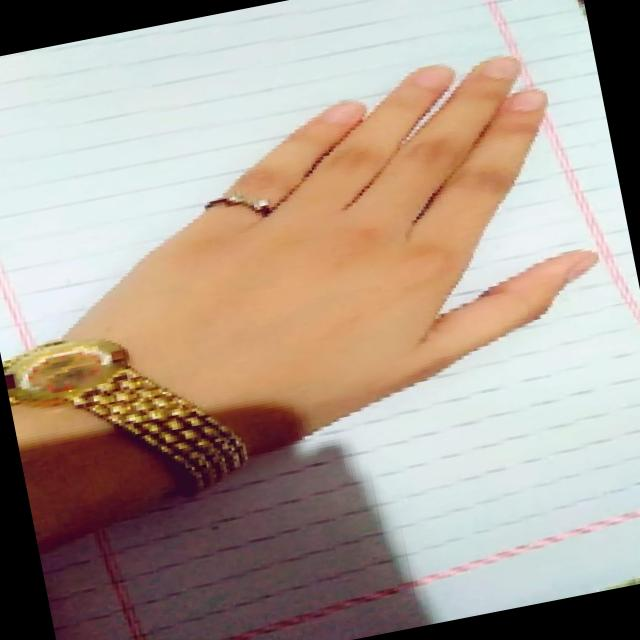Nail: (321, 102, 360, 123), (511, 89, 548, 111), (484, 57, 518, 79), (569, 256, 598, 280), (417, 66, 449, 87)
